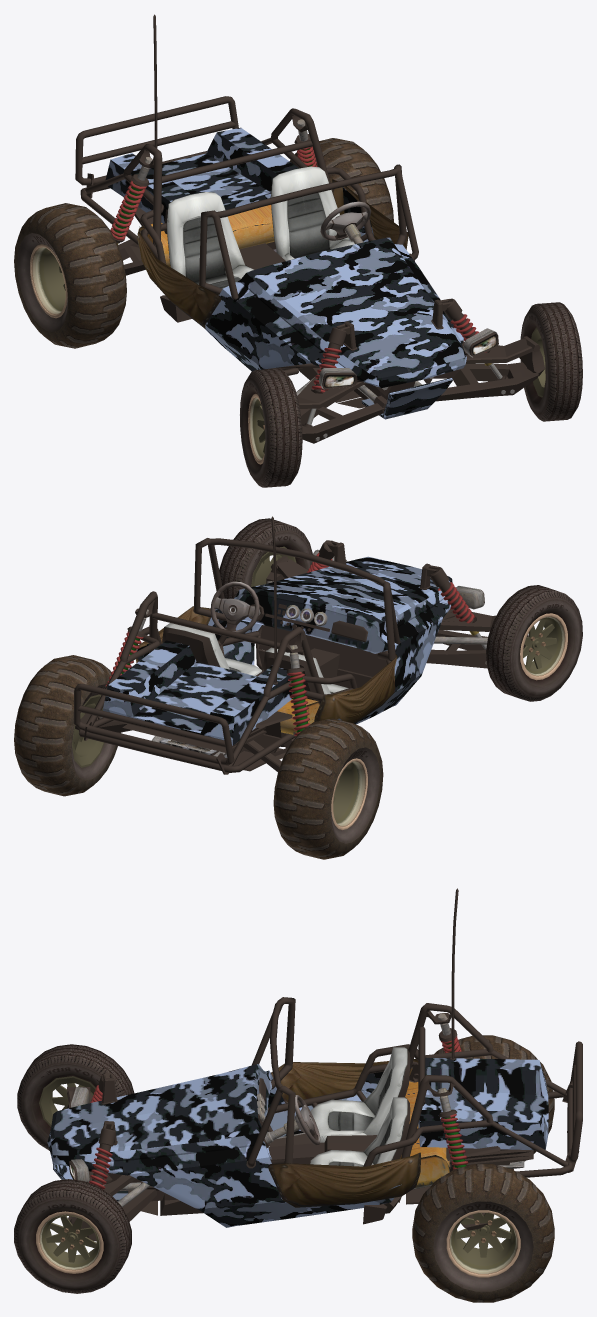
Rendered from car.glb.
The picture shows the model from 3 angles, top to bottom: view 1: azimuth 30°, elevation 25°; view 2: azimuth 150°, elevation 25°; view 3: azimuth 270°, elevation 25°; orthographic projection. The views are drawn at different scales.
Parts seen in each view (by area): view 1: polySurface3.12, REAR_LEFT1.9, Seat_GENERIC2.3, Axle_FRONT_LEFT.10, FRONT_LEFT1.8, FRONT_LEFT.6, polySurface1.11, REAR_LEFT.7, Headlight.2; view 2: polySurface3.12, REAR_LEFT1.9, REAR_LEFT.7, FRONT_LEFT1.8, Axle_FRONT_LEFT.10, Seat_GENERIC2.3, FRONT_LEFT.6, polySurface1.11, Headlight.2, Antena.4; view 3: polySurface3.12, REAR_LEFT.7, FRONT_LEFT.6, Seat_GENERIC2.3, FRONT_LEFT1.8, Axle_FRONT_LEFT.10, polySurface1.11, REAR_LEFT1.9, Headlight.2, Antena.4.
Boxes of the visible parts, x1,y1,x2,y2 form: polySurface3.12: [75, 96, 466, 419]; REAR_LEFT1.9: [14, 203, 126, 348]; Seat_GENERIC2.3: [166, 166, 370, 288]; Axle_FRONT_LEFT.10: [296, 298, 544, 443]; FRONT_LEFT1.8: [240, 368, 302, 487]; FRONT_LEFT.6: [520, 302, 582, 421]; polySurface1.11: [110, 115, 317, 275]; REAR_LEFT.7: [289, 138, 393, 221]; Headlight.2: [318, 328, 498, 389]; polySurface3.12: [73, 538, 452, 774]; REAR_LEFT1.9: [273, 718, 383, 859]; REAR_LEFT.7: [14, 655, 120, 796]; FRONT_LEFT1.8: [486, 585, 582, 701]; Axle_FRONT_LEFT.10: [266, 540, 528, 668]; Seat_GENERIC2.3: [162, 581, 348, 701]; FRONT_LEFT.6: [219, 518, 312, 598]; polySurface1.11: [75, 599, 310, 771]; Headlight.2: [310, 549, 484, 619]; Antena.4: [271, 516, 277, 684]; polySurface3.12: [47, 997, 582, 1227]; REAR_LEFT.7: [412, 1164, 554, 1302]; FRONT_LEFT.6: [14, 1179, 131, 1293]; Seat_GENERIC2.3: [295, 1047, 410, 1166]; FRONT_LEFT1.8: [17, 1044, 134, 1150]; Axle_FRONT_LEFT.10: [67, 1072, 156, 1241]; polySurface1.11: [425, 1010, 493, 1230]; REAR_LEFT1.9: [434, 1035, 554, 1161]; Headlight.2: [69, 1087, 112, 1183]; Antena.4: [450, 888, 458, 1060].
Size of the model in its own units: 0.0215 by 0.0198 by 0.0325.
35 materials, 35 textured.
